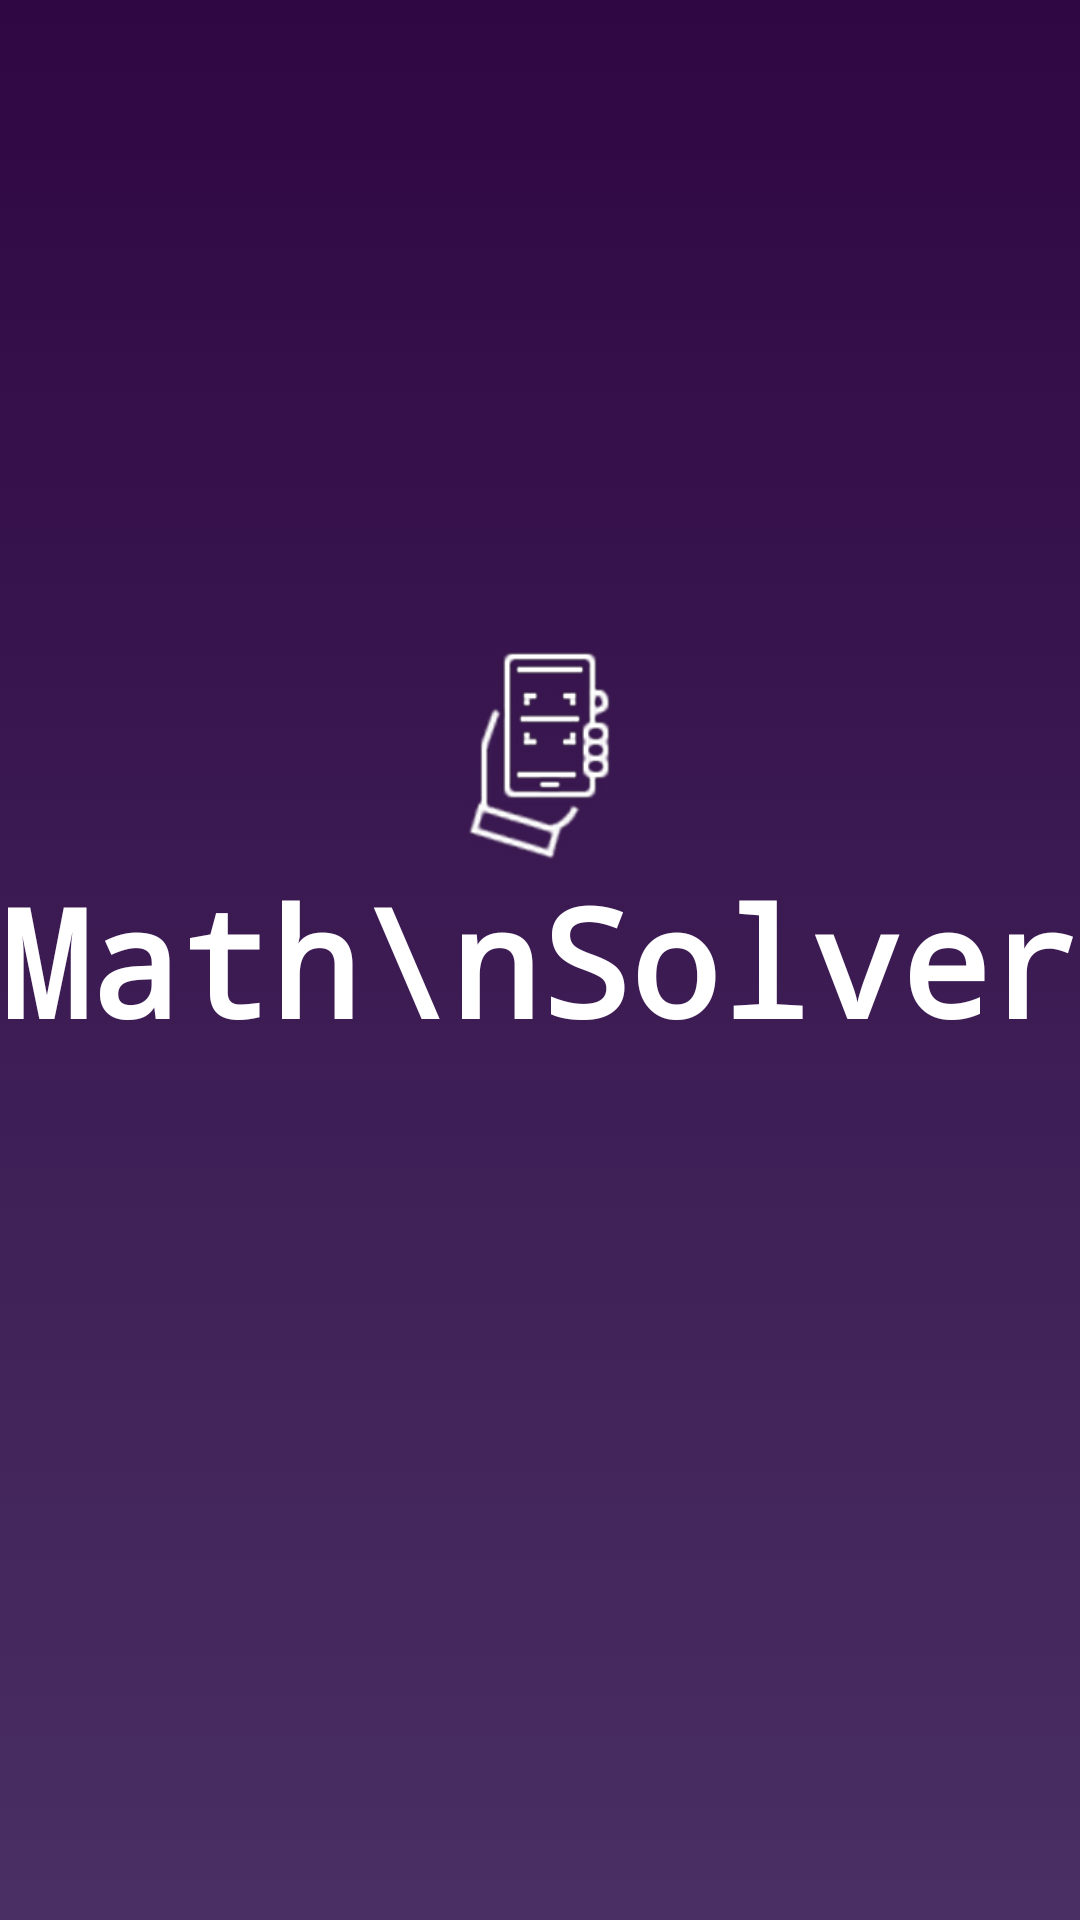

Icons on this 1080w x 1920h Android screen, each with its box as [x1=x1, y1=y1, x2=x2, y2=y2]:
scanico: [x1=469, y1=653, x2=609, y2=859]
